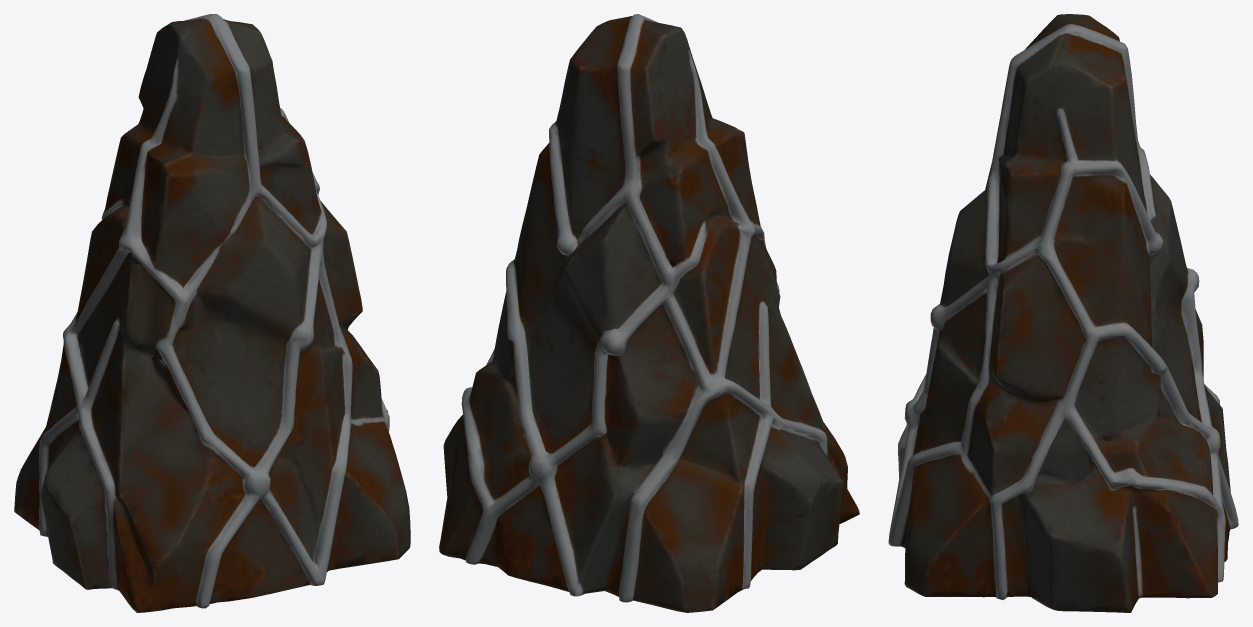
The model's file is iron-node.glb.
3 views of the same model, side by side, from view 1: azimuth 30°, elevation 25°; view 2: azimuth 150°, elevation 25°; view 3: azimuth 270°, elevation 25° (orthographic).
Parts seen in each view (by area): view 1: world; view 2: world; view 3: world.
Part boxes in pixels (x1=…): world: x1=14, y1=14, x2=410, y2=612; world: x1=439, y1=14, x2=859, y2=612; world: x1=888, y1=14, x2=1238, y2=612.
Size of the model in its own units: 0.7053 by 1 by 0.6214.
Materials: 1 (1 with a texture image).
